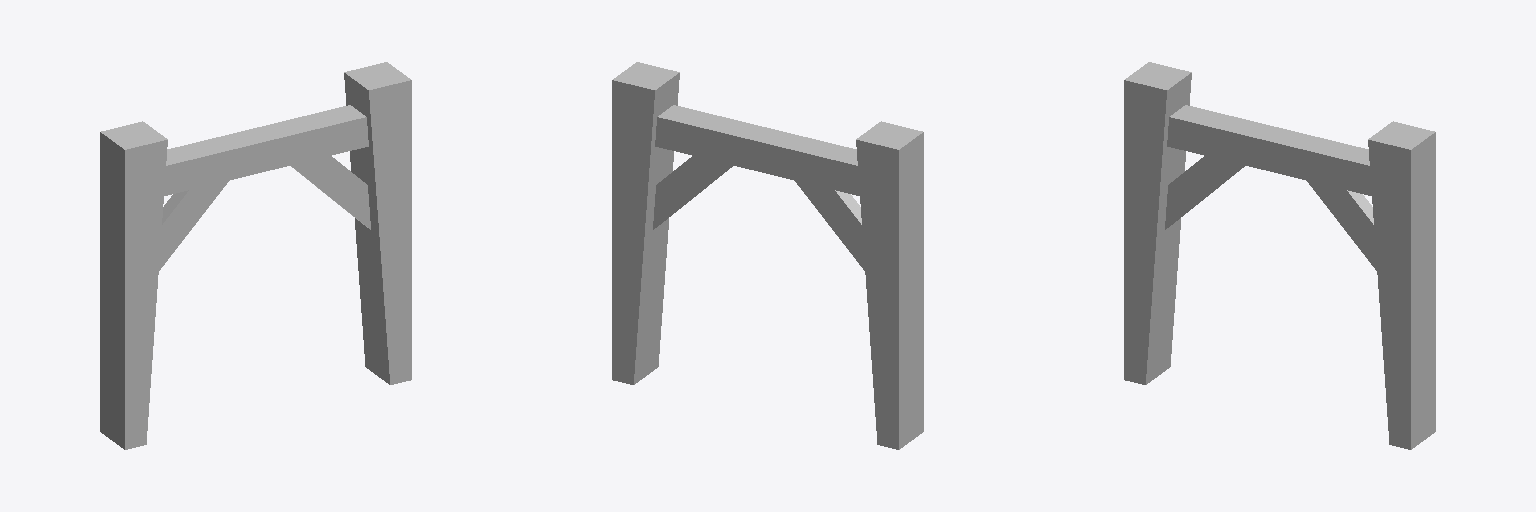
File: wood-support.obj
3 views of the same model, side by side, from view 1: azimuth 30°, elevation 25°; view 2: azimuth 150°, elevation 25°; view 3: azimuth 330°, elevation 25° (orthographic).
Visible parts, largest first — view 1: wood-support; view 2: wood-support; view 3: wood-support.
Part boxes in pixels (x1,y1,x2,y2): wood-support: (100, 62, 411, 449); wood-support: (612, 62, 923, 449); wood-support: (1124, 62, 1435, 449).
Bounding box in the file's own units: 1 × 1 × 0.15.